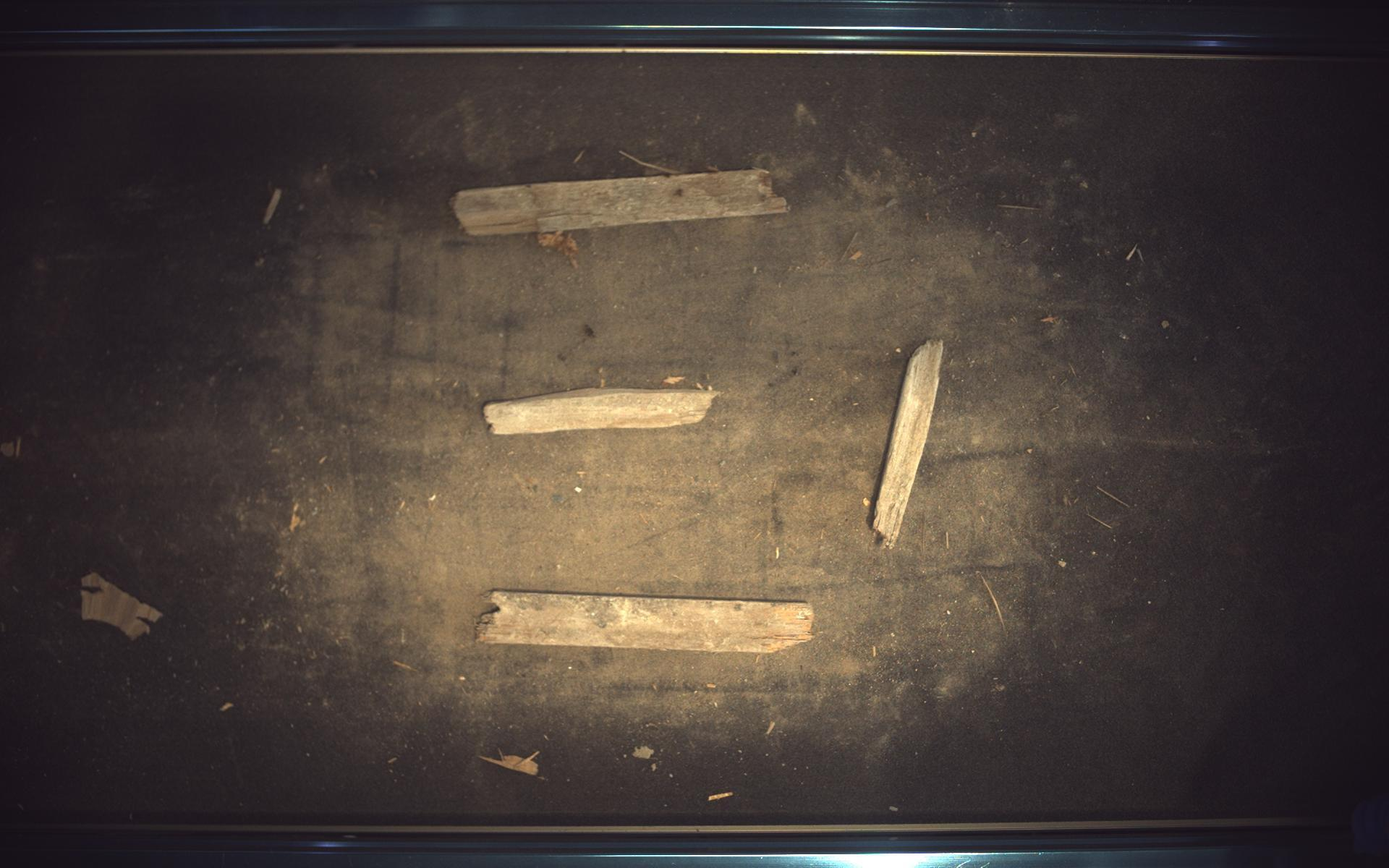wood: (451, 169, 789, 235), (477, 592, 815, 654), (875, 340, 946, 548), (484, 388, 721, 435)
